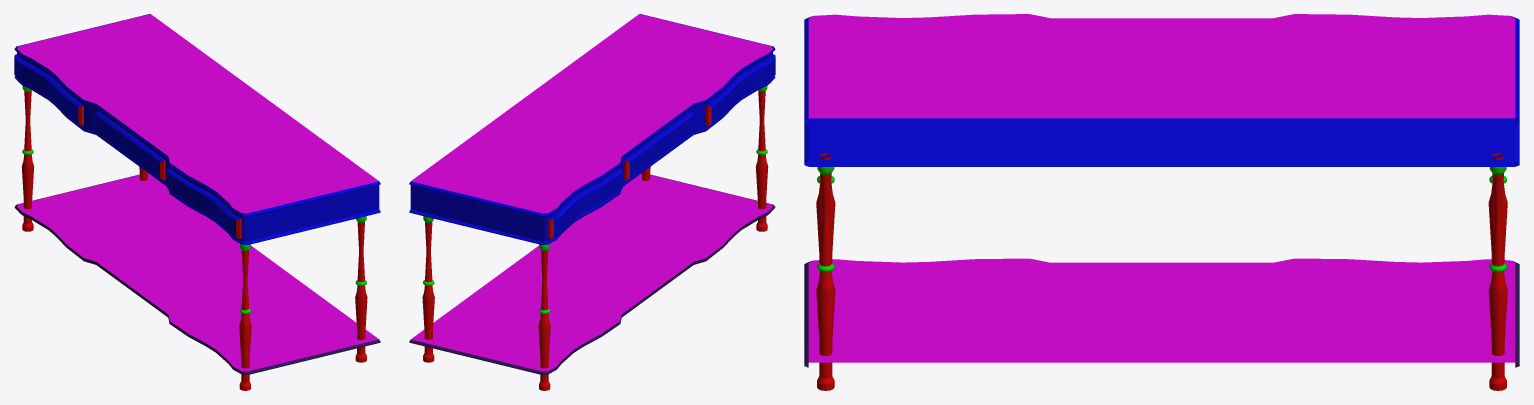
Rendered from SM_SmallCabinet_001.fbx.
3 renders of one model, left to right at view 1: azimuth 30°, elevation 25°; view 2: azimuth 150°, elevation 25°; view 3: azimuth 270°, elevation 25°, orthographic. The views are drawn at different scales.
Parts seen in each view (by area): view 1: SmallCabinet_001; view 2: SmallCabinet_001; view 3: SmallCabinet_001.
Part boxes in pixels (box(x1,y1,x2,y2)): SmallCabinet_001: box(14, 14, 380, 390); SmallCabinet_001: box(409, 14, 775, 390); SmallCabinet_001: box(804, 14, 1519, 390).
Bounding box in the file's own units: 70.79 × 85.6 × 199.
